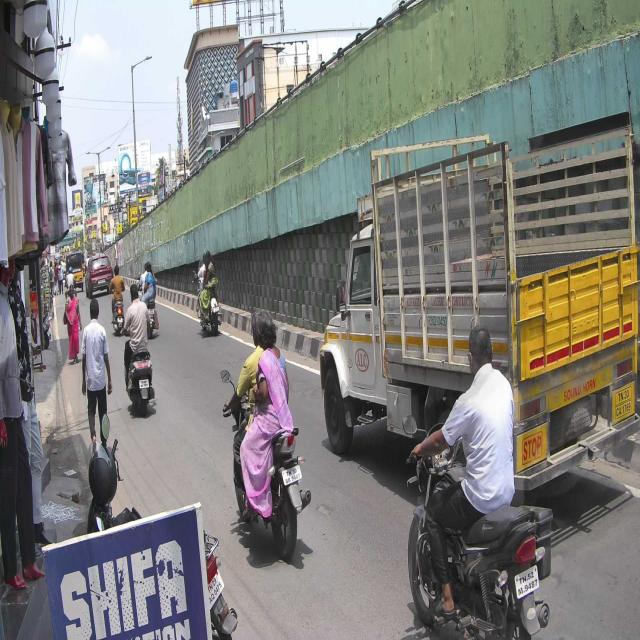double_rider: (220, 308, 315, 566)
single_rider: (405, 328, 553, 640)
